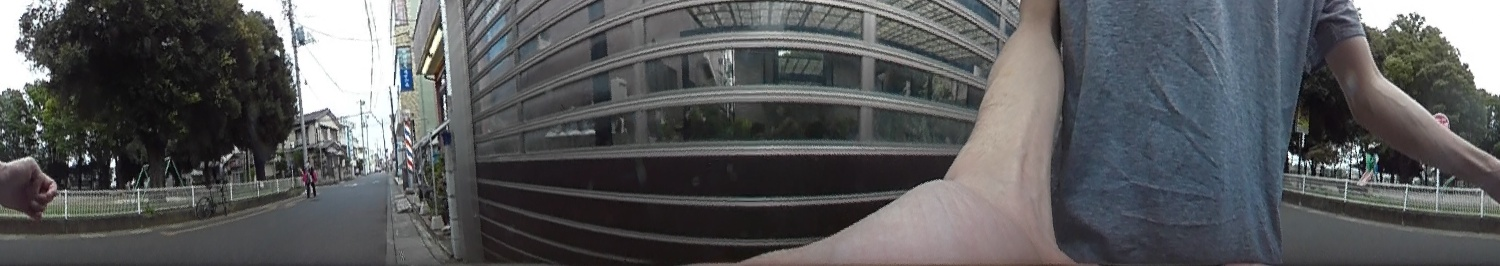difficult_person: (299, 161, 318, 201)
